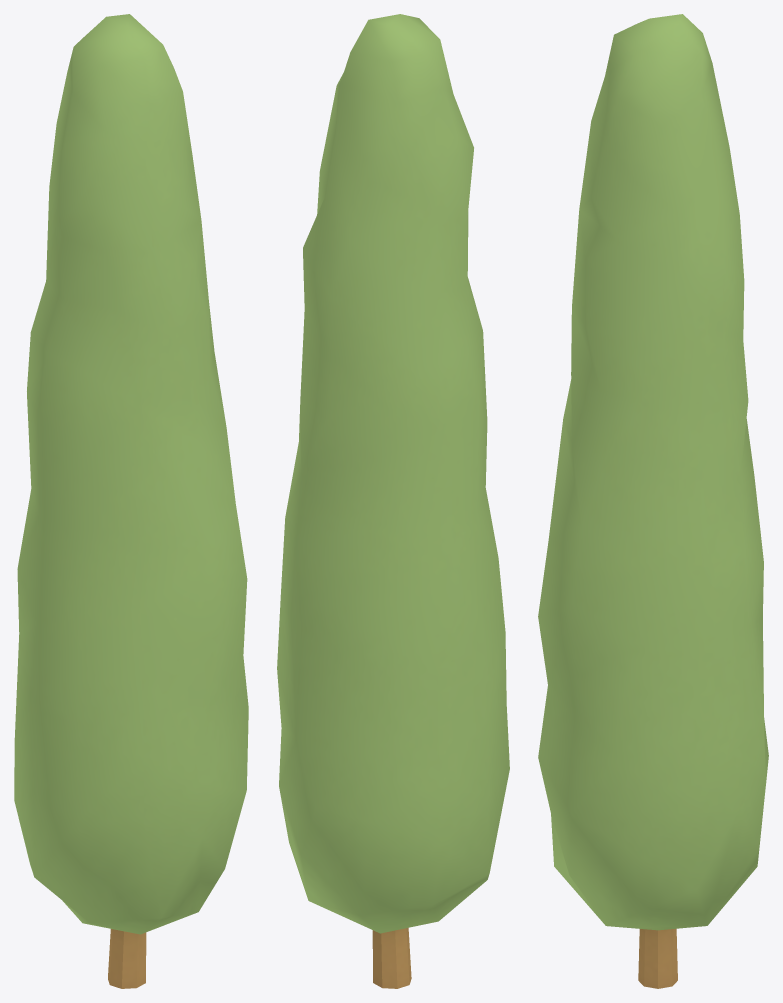
Rendered from leafy_tight.glb.
3 views of the same model, side by side, from view 1: azimuth 30°, elevation 25°; view 2: azimuth 150°, elevation 25°; view 3: azimuth 270°, elevation 25° (orthographic).
Parts seen in each view (by area): view 1: tuya; view 2: tuya; view 3: tuya.
Boxes of the visible parts, <box> form: tuya: <box>14,14,248,988</box>; tuya: <box>277,14,509,988</box>; tuya: <box>538,14,768,988</box>.
Bounding box in the file's own units: 3.82 × 17.62 × 3.83.
1 material, 1 textured.
